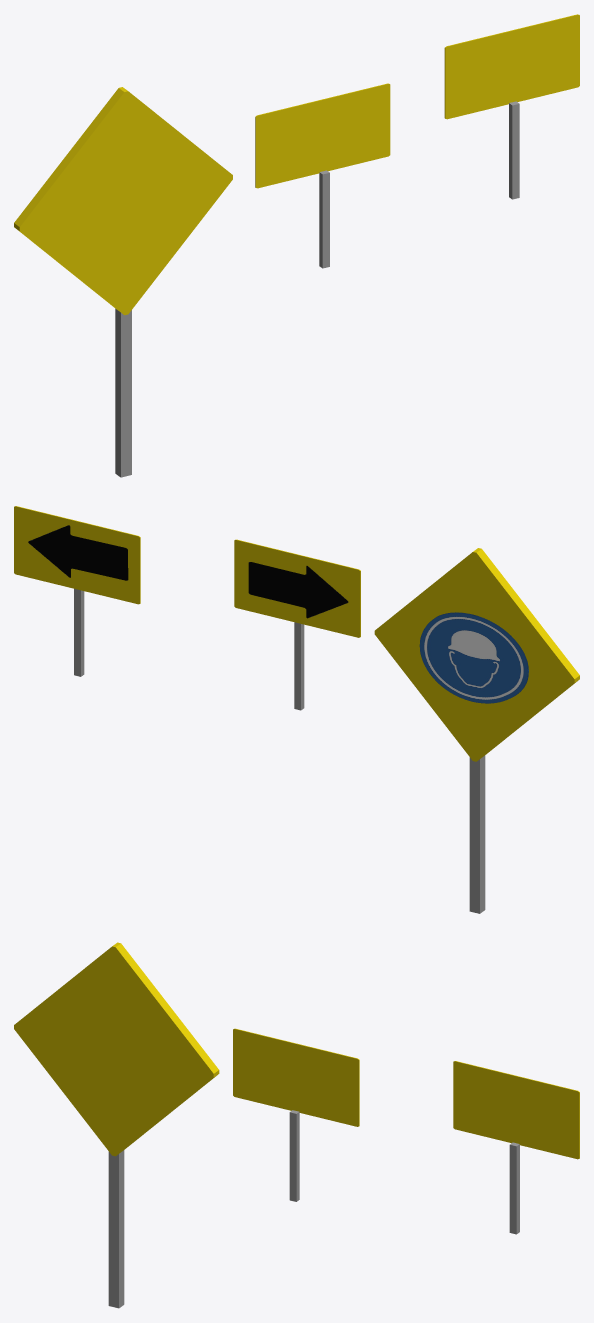
Rendered from Flechas.fbx.
3 renders of one model, top to bottom at view 1: azimuth 30°, elevation 25°; view 2: azimuth 150°, elevation 25°; view 3: azimuth 330°, elevation 25°, orthographic. The views are drawn at different scales.
Parts seen in each view (by area): view 1: png-transparent-eye-symbol-safety-personal-protective-equipm, 45003, 45003.001; view 2: png-transparent-eye-symbol-safety-personal-protective-equipm, 45003, 45003.001, 45003-removebg-preview, 45003-removebg-preview.001; view 3: png-transparent-eye-symbol-safety-personal-protective-equipm, 45003.001, 45003.
Boxes of the visible parts, bbox=[...] form: png-transparent-eye-symbol-safety-personal-protective-equipm: bbox=[14, 87, 232, 477]; 45003: bbox=[255, 83, 390, 268]; 45003.001: bbox=[444, 14, 579, 199]; png-transparent-eye-symbol-safety-personal-protective-equipm: bbox=[374, 548, 579, 913]; 45003: bbox=[234, 539, 360, 710]; 45003.001: bbox=[14, 506, 140, 676]; 45003-removebg-preview: bbox=[248, 562, 348, 618]; 45003-removebg-preview.001: bbox=[28, 525, 128, 580]; png-transparent-eye-symbol-safety-personal-protective-equipm: bbox=[14, 942, 219, 1308]; 45003.001: bbox=[453, 1061, 579, 1234]; 45003: bbox=[233, 1028, 359, 1201].
Size of the model in its own units: 1313 by 829 by 106.
5 materials, 3 textured.
